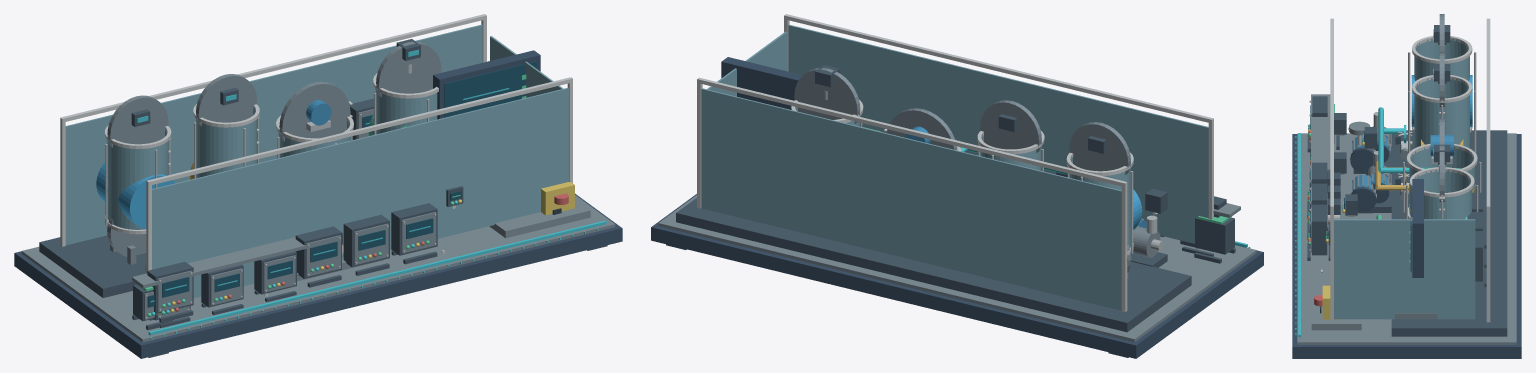
Rendered from Level67_Complete_ArtKit_Showcase.glb.
The picture shows the model from 3 angles, left to right: view 1: azimuth 30°, elevation 25°; view 2: azimuth 150°, elevation 25°; view 3: azimuth 270°, elevation 25°; orthographic projection. The views are drawn at different scales.
Parts seen in each view (by area): view 1: part_625, part_623, part_0, part_1, part_53, part_58, part_624, part_110, part_83, part_606, part_137, part_622 (+27 smaller); view 2: part_623, part_625, part_53, part_0, part_1, part_622, part_624, part_605, part_85, part_60, part_137, part_110 (+9 smaller); view 3: part_626, part_1, part_53, part_0, part_83, part_135, part_58, part_605, part_347, part_108, part_622, part_55 (+35 smaller).
Boxes of the visible parts, bbox=[...] form: part_625: bbox=[152, 87, 568, 298]; part_623: bbox=[65, 24, 482, 245]; part_0: bbox=[14, 193, 622, 358]; part_1: bbox=[21, 195, 615, 342]; part_53: bbox=[39, 235, 146, 297]; part_58: bbox=[107, 129, 168, 229]; part_624: bbox=[146, 77, 572, 185]; part_110: bbox=[279, 81, 350, 141]; part_83: bbox=[196, 107, 256, 178]; part_606: bbox=[444, 61, 537, 117]; part_137: bbox=[376, 41, 441, 97]; part_622: bbox=[60, 14, 486, 121]; part_623: bbox=[701, 88, 1121, 310]; part_625: bbox=[788, 24, 1208, 243]; part_53: bbox=[676, 198, 1191, 332]; part_0: bbox=[651, 194, 1263, 358]; part_1: bbox=[658, 195, 1256, 342]; part_622: bbox=[697, 77, 1127, 186]; part_624: bbox=[784, 14, 1213, 123]; part_605: bbox=[721, 57, 802, 109]; part_85: bbox=[980, 100, 1041, 152]; part_60: bbox=[1069, 122, 1130, 174]; part_137: bbox=[794, 68, 860, 123]; part_110: bbox=[886, 108, 957, 150]; part_626: bbox=[1334, 219, 1475, 319]; part_1: bbox=[1297, 133, 1516, 344]; part_53: bbox=[1391, 130, 1507, 336]; part_0: bbox=[1292, 134, 1521, 358]; part_83: bbox=[1414, 77, 1469, 148]; part_135: bbox=[1415, 170, 1471, 219]; part_58: bbox=[1414, 38, 1469, 80]; part_605: bbox=[1412, 179, 1423, 277]; part_347: bbox=[1311, 94, 1330, 172]; part_108: bbox=[1409, 146, 1474, 216]; part_622: bbox=[1486, 18, 1490, 209]; part_55: bbox=[1311, 286, 1361, 330].
Size of the model in its own units: 13.6 by 5.03 by 6.2.
